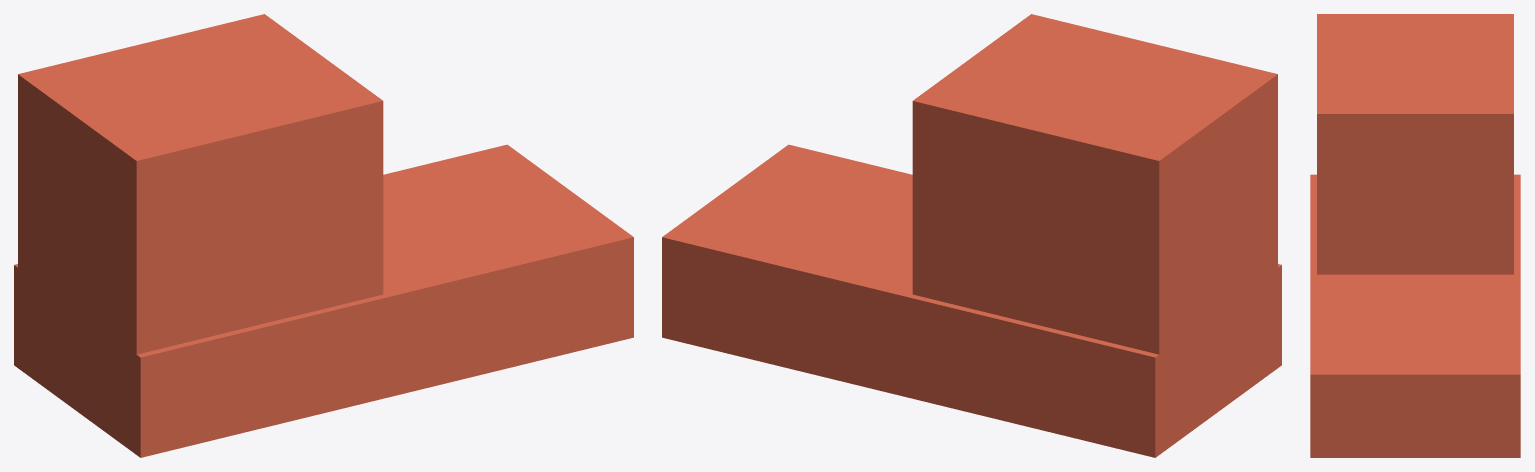
The model's file is sapatos.glb.
The picture shows the model from 3 angles, left to right: view 1: azimuth 30°, elevation 25°; view 2: azimuth 150°, elevation 25°; view 3: azimuth 270°, elevation 25°; orthographic projection. The views are drawn at different scales.
Bounding box in the file's own units: 1.8 × 1.02 × 0.8.
